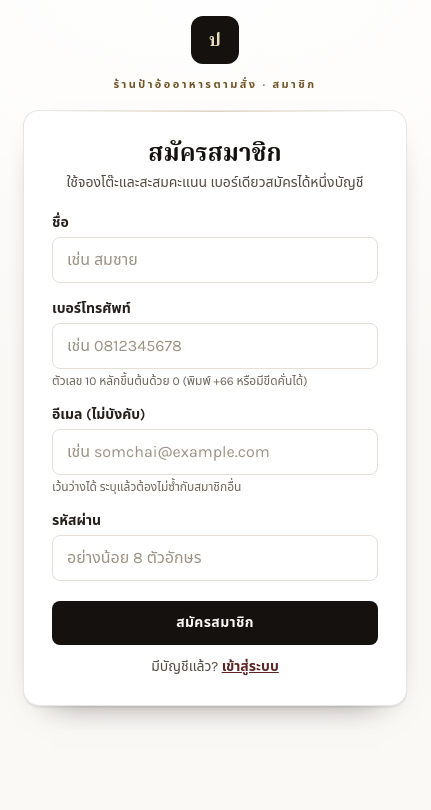
Test case: หน้าสมัครสมาชิก (ภาษาไทย) › เบอร์ผิดรูปแบบแจ้ง inline เป็นภาษาไทย
In the field labelled "ชื่อ": (215, 260) [52,237,378,283], type "สมชาย"
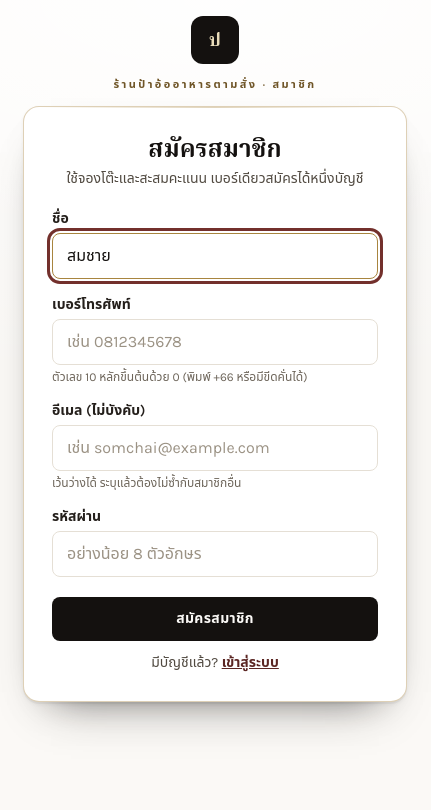
In the field labelled "เบอร์โทรศัพท์": (215, 342) [52,319,378,365], type "123"
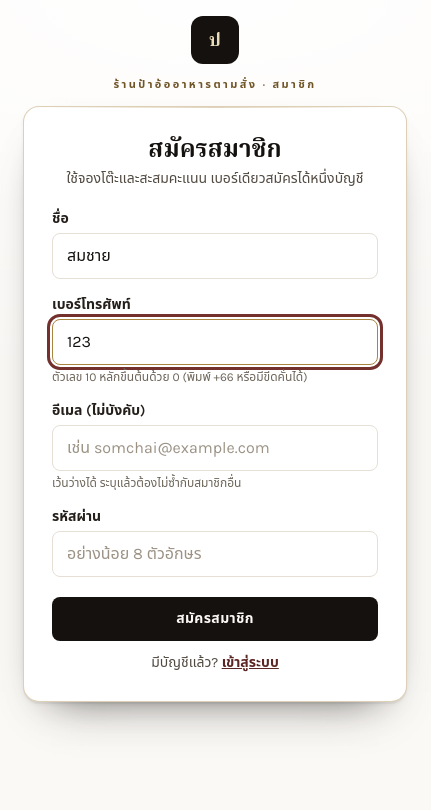
In the password field labelled "รหัสผ่าน": (215, 554) [52,531,378,577], type "Password11"
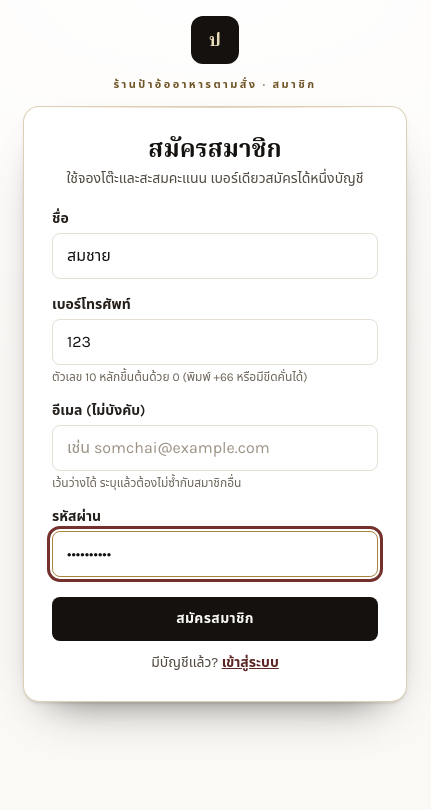
Click the button "สมัครสมาชิก": click(215, 619) [52,597,378,641]
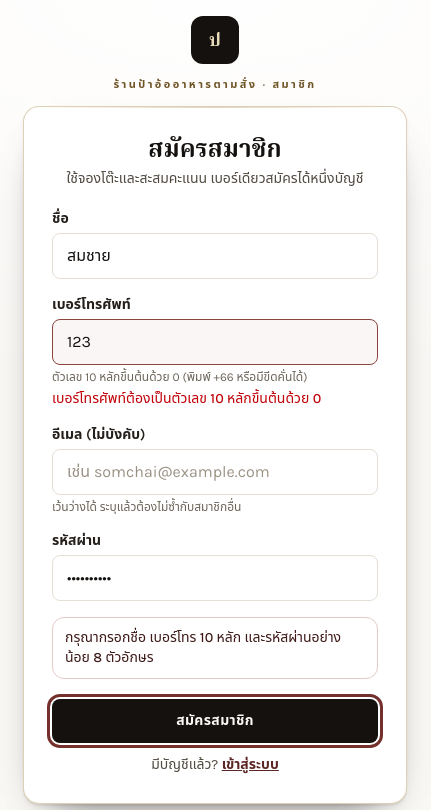
Now the text "เบอร์โทรศัพท์ต้องเป็นตัวเลข 10 หลักขึ้นต้นด้วย 0" is shown, box [52,390,321,407]
